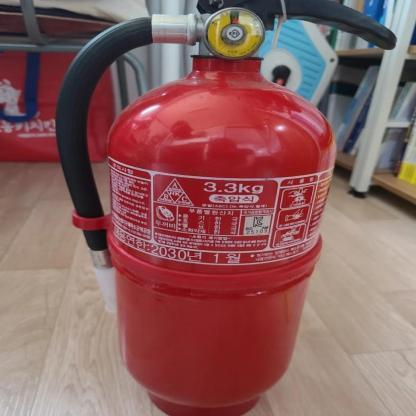Fire Extinguisher: (53, 0, 394, 416)
